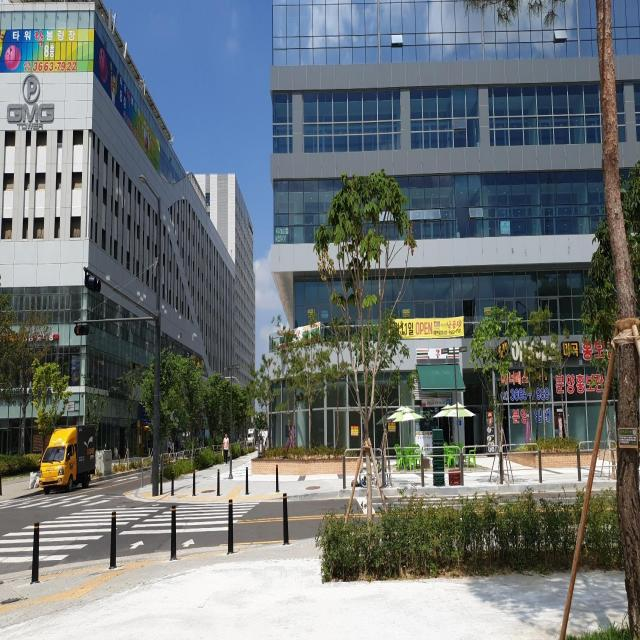횡단보도: (0, 501, 261, 564)
